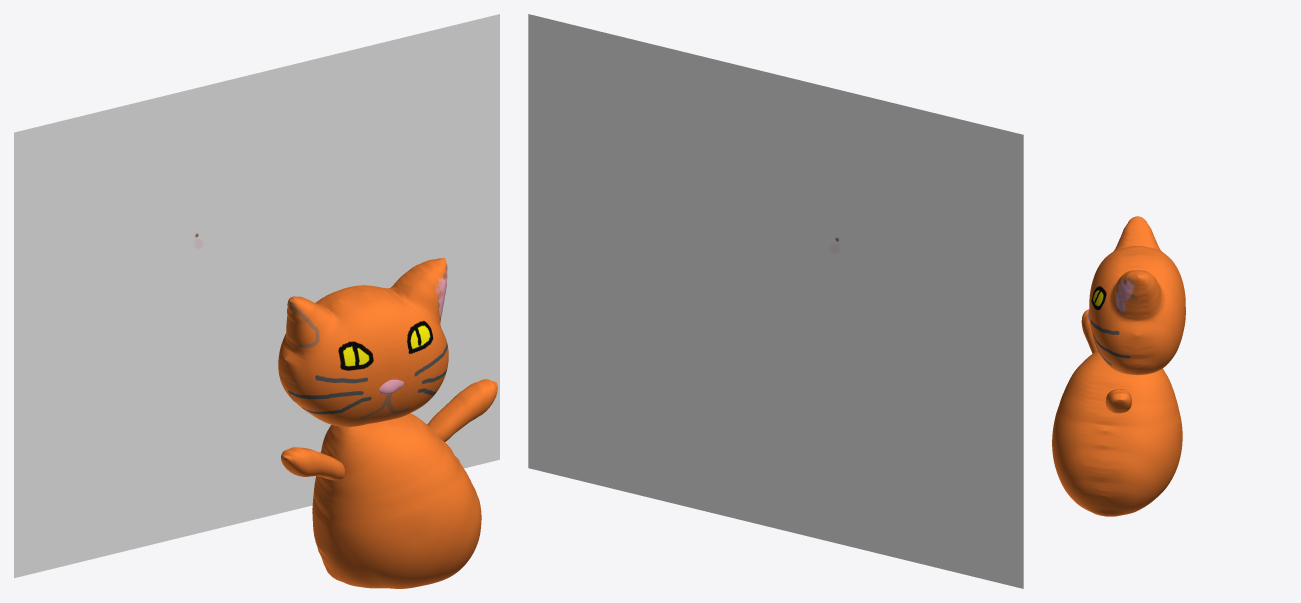
File: Cat.fbx
3 renders of one model, left to right at view 1: azimuth 30°, elevation 25°; view 2: azimuth 150°, elevation 25°; view 3: azimuth 270°, elevation 25°, orthographic. The views are drawn at different scales.
Visible parts, largest first — view 1: mesh_id1, mesh_id35, mesh_id19, mesh_id42, mesh_id45; view 2: mesh_id1; view 3: mesh_id35, mesh_id19, mesh_id42, mesh_id45.
Part boxes in pixels (x1,y1,x2,y2): mesh_id1: (14,14,499,578); mesh_id35: (312,413,481,588); mesh_id19: (278,258,448,427); mesh_id42: (427,379,497,441); mesh_id45: (281,447,344,480); mesh_id1: (528,14,1023,588); mesh_id35: (1052,350,1182,516); mesh_id19: (1089,216,1185,375); mesh_id42: (1105,389,1131,413); mesh_id45: (1081,309,1097,353).
Bounding box in the file's own units: 100 × 87.64 × 49.7.
Materials: 6 (6 with a texture image).
